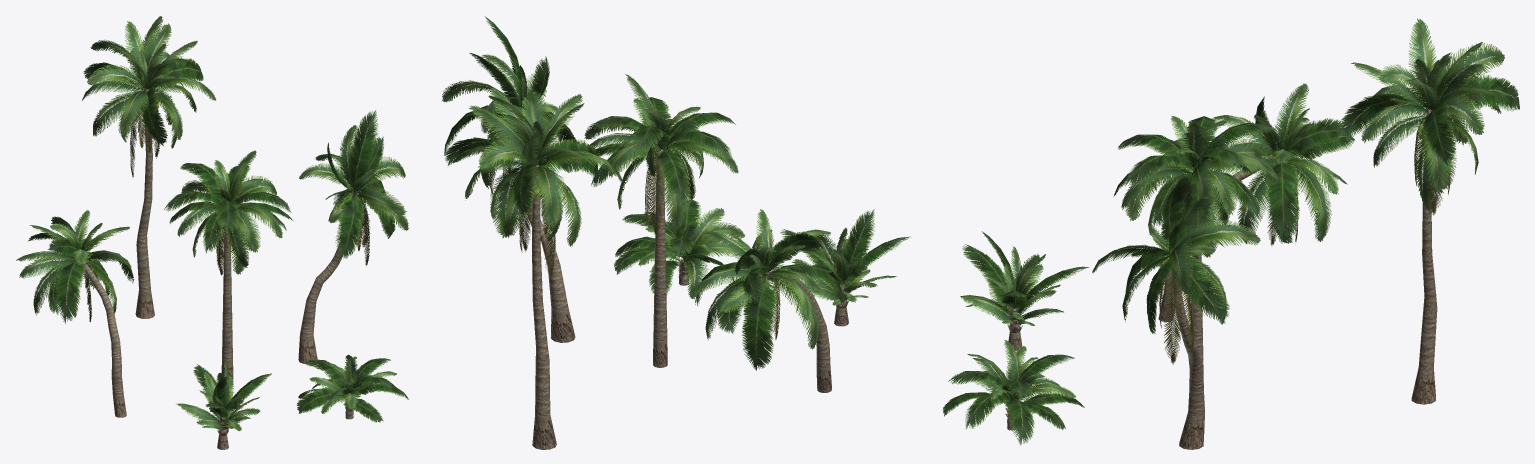
The model's file is palms.obj.
3 views of the same model, side by side, from view 1: azimuth 30°, elevation 25°; view 2: azimuth 150°, elevation 25°; view 3: azimuth 270°, elevation 25° (orthographic). The views are drawn at different scales.
Visible parts, largest first — view 1: polySurface342, polySurface335, polySurface336, polySurface343, polySurface338, polySurface339, polySurface290, polySurface234, polySurface262, polySurface229; view 2: polySurface342, polySurface343, polySurface335, polySurface338, polySurface336, polySurface339, polySurface290, polySurface229, polySurface262, polySurface234; view 3: polySurface342, polySurface335, polySurface336, polySurface343, polySurface338, polySurface339, polySurface290, polySurface262, polySurface229, polySurface234.
Boxes of the visible parts, x1,y1,x2,y2 form: polySurface342: (82,16,215,177); polySurface335: (164,150,293,275); polySurface336: (299,110,408,265); polySurface343: (16,210,134,323); polySurface338: (296,354,409,422); polySurface339: (176,361,271,435); polySurface290: (135,89,154,318); polySurface234: (82,263,126,417); polySurface262: (298,192,352,364); polySurface229: (221,227,233,378); polySurface342: (444,87,622,278); polySurface343: (693,209,844,370); polySurface335: (578,74,738,235); polySurface338: (614,199,745,299); polySurface336: (441,16,575,204); polySurface339: (780,209,910,308); polySurface290: (532,165,556,449); polySurface229: (653,149,667,367); polySurface262: (522,162,575,342); polySurface234: (765,271,831,392); polySurface342: (1339,18,1519,215); polySurface335: (1113,116,1278,259); polySurface336: (1092,172,1260,364); polySurface343: (1212,83,1354,245); polySurface338: (942,340,1084,445); polySurface339: (960,231,1089,332); polySurface290: (1411,109,1437,404); polySurface262: (1170,261,1204,449); polySurface229: (1189,245,1203,388); polySurface234: (1158,157,1275,321).
Size of the model in its own units: 67.39 by 51.63 by 74.4.
Materials: 2 (2 with a texture image).
